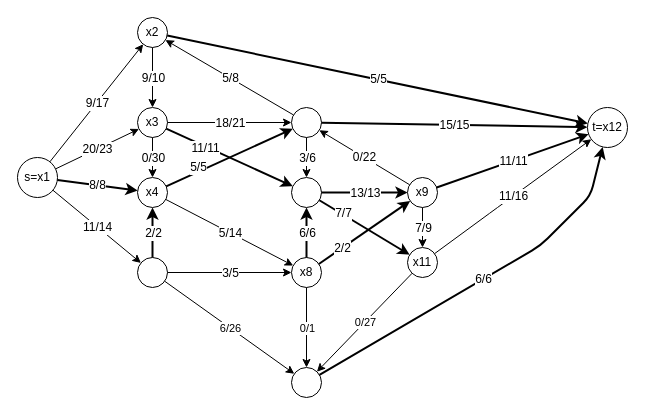
The diagram is 645 pixels wide and 415 high, and some of its shapes have lost their labels. The box of each missing label's shape, as (x1, y1, x2, y2) in pixels:
x10: (290, 366, 322, 398)
x5: (136, 256, 168, 288)
x6: (290, 106, 322, 138)
x7: (290, 176, 322, 208)
